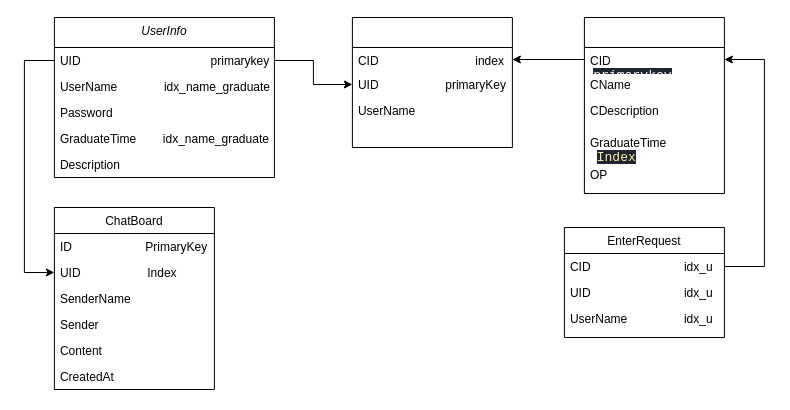
Some shapes in this 790 by 410 pixel diagram are drawn without their labels. The shapes that lost their labels are listed below. From the top down, each one's box as (x1, y1, x2, y2) in pixels, then its label:
(351, 16, 512, 148): ClassUser
(583, 16, 724, 194): ClassInfo
